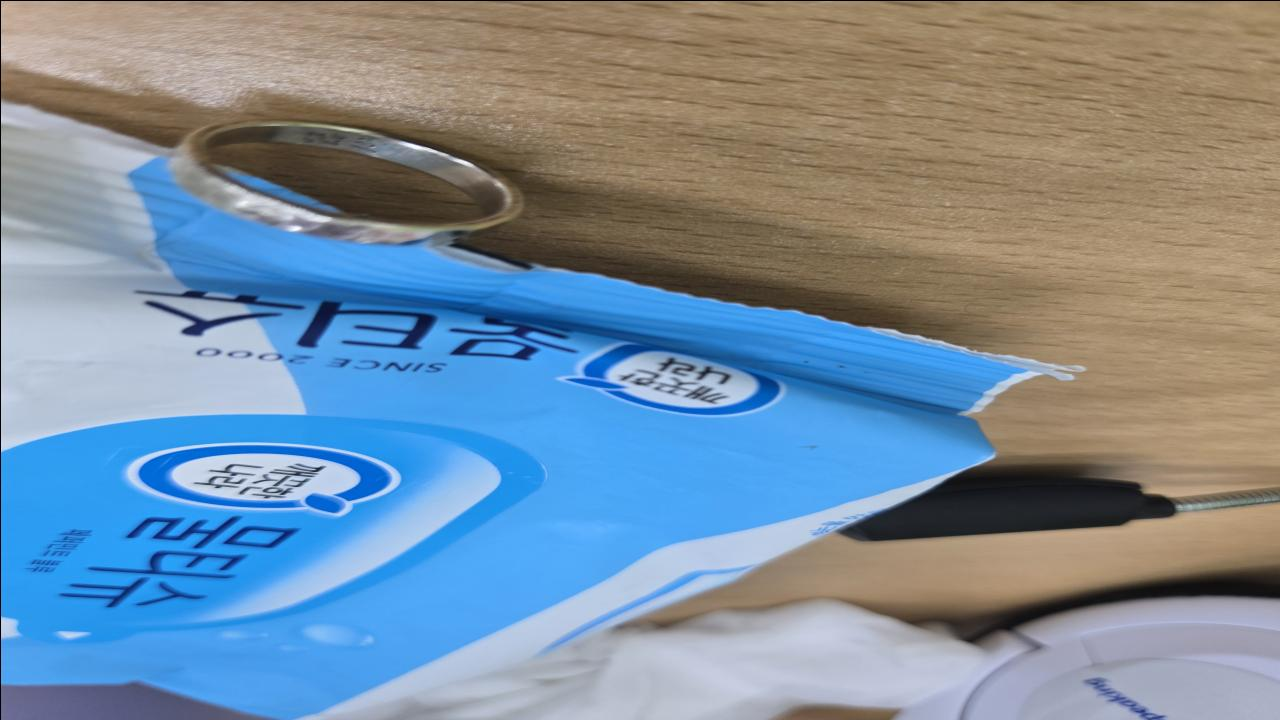ring: (170, 117, 528, 244)
